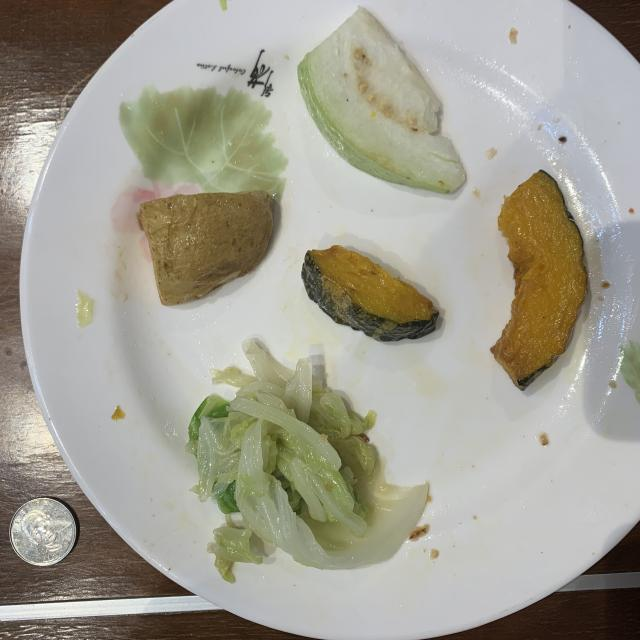cabbage: (186, 339, 429, 582)
coin: (10, 498, 76, 566)
fried potato: (138, 190, 274, 305)
guava -sliced-: (298, 8, 465, 192)
pumpkin: (491, 170, 588, 390), (301, 245, 439, 341)
